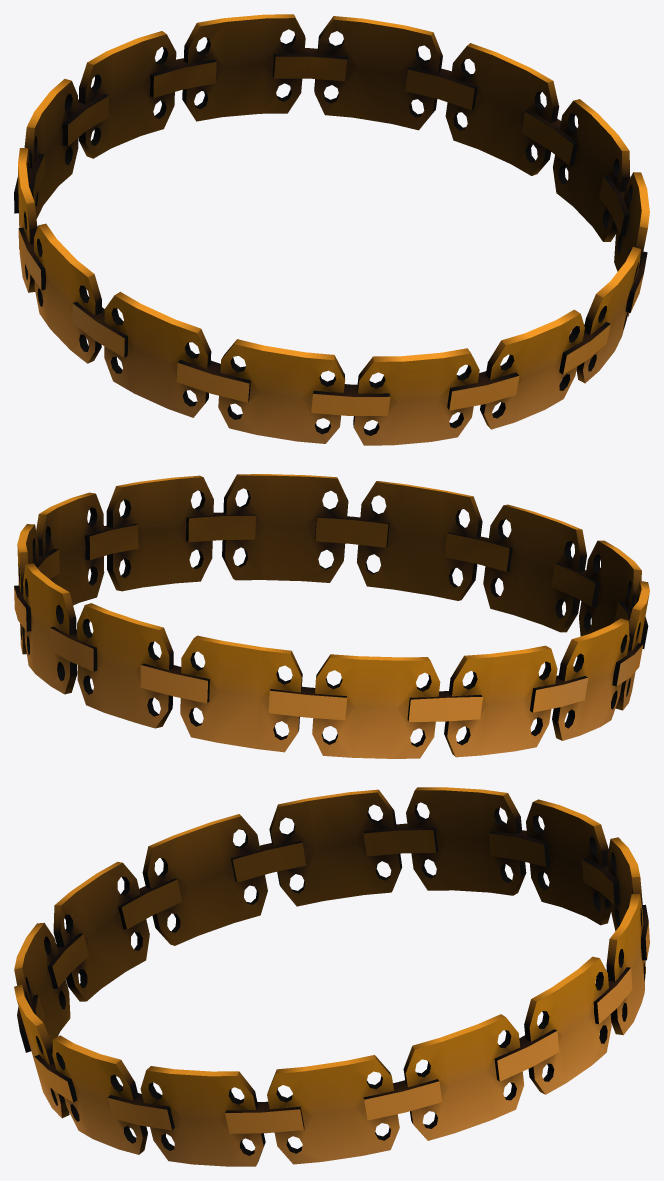
The model's file is Belt_Eastern_Armor_Belt.gltf.
3 renders of one model, top to bottom at view 1: azimuth 30°, elevation 25°; view 2: azimuth 150°, elevation 25°; view 3: azimuth 270°, elevation 25°, orthographic.
Parts seen in each view (by area): view 1: Belt_Eastern_Armor_Belt; view 2: Belt_Eastern_Armor_Belt; view 3: Belt_Eastern_Armor_Belt.
Boxes of the visible parts, x1,y1,x2,y2 form: Belt_Eastern_Armor_Belt: [14, 14, 649, 445]; Belt_Eastern_Armor_Belt: [14, 474, 649, 758]; Belt_Eastern_Armor_Belt: [14, 787, 649, 1166].
Bounding box in the file's own units: 0.7746 × 0.2537 × 0.7757.
Materials: 1 (1 with a texture image).
